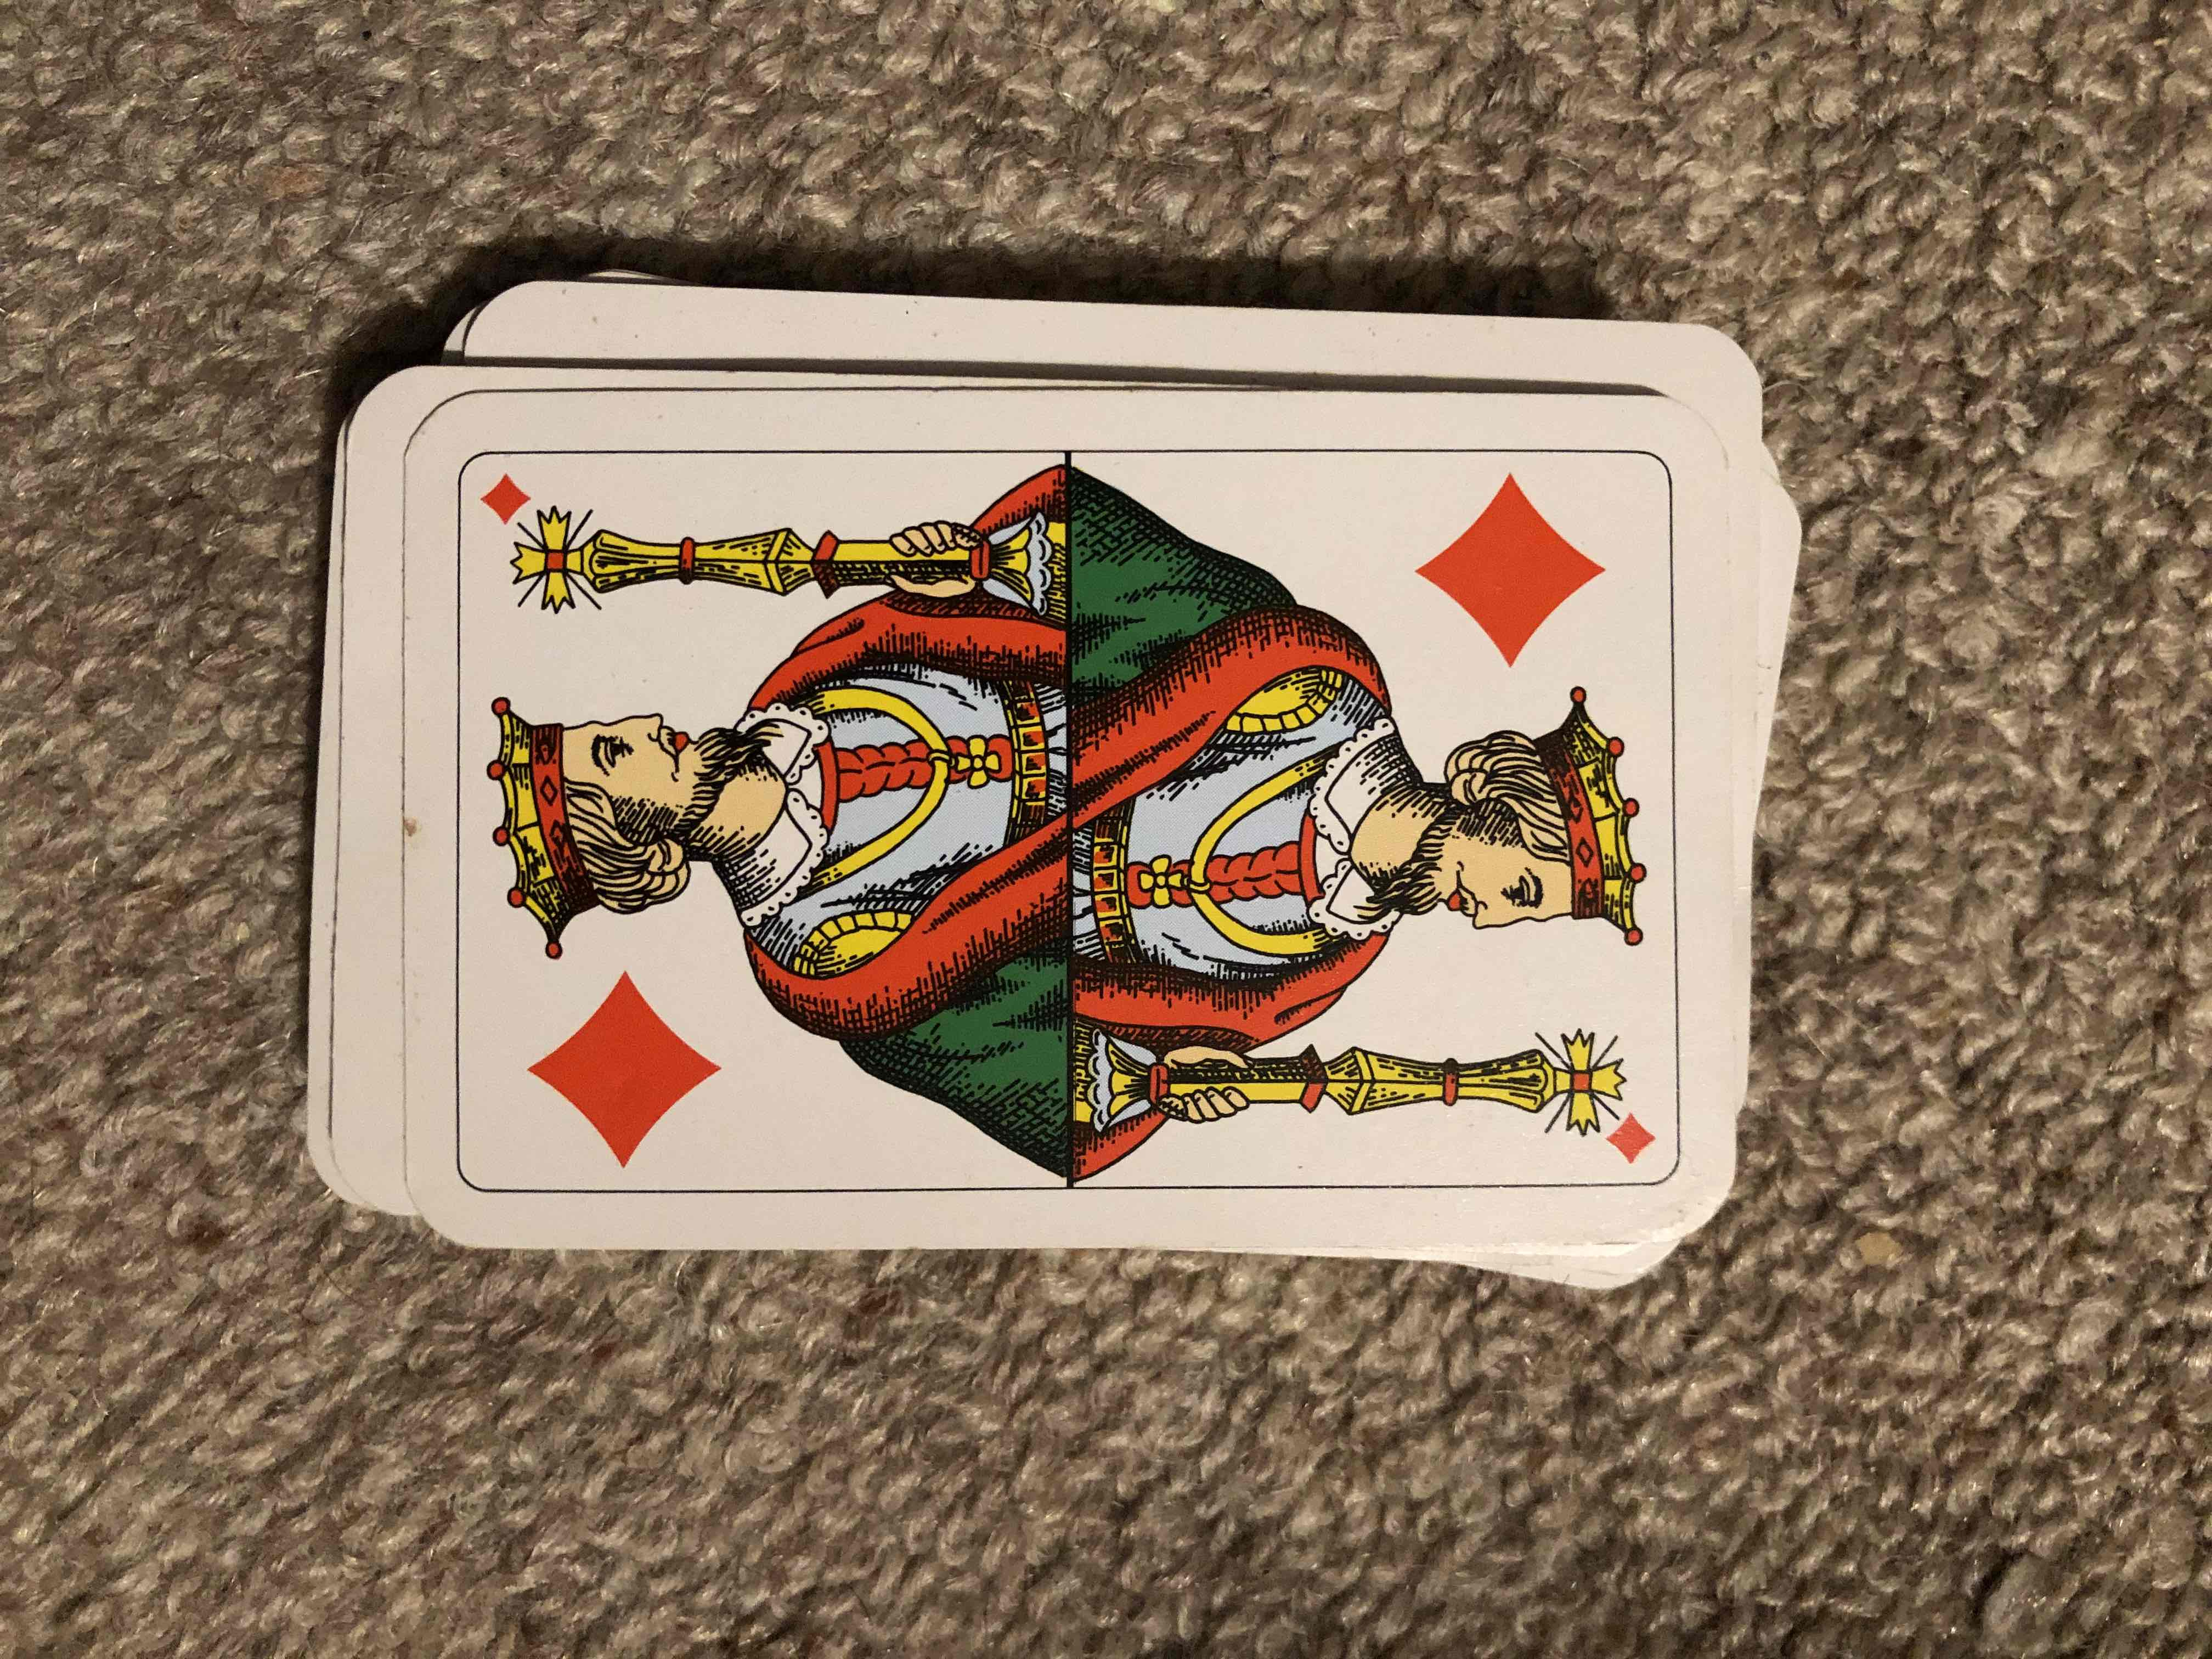diamondKing: (404, 389, 1721, 1213)
